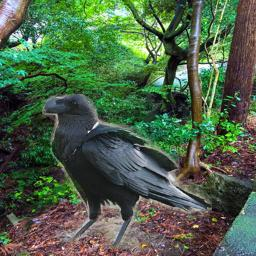Crow: (40, 94, 212, 249)
